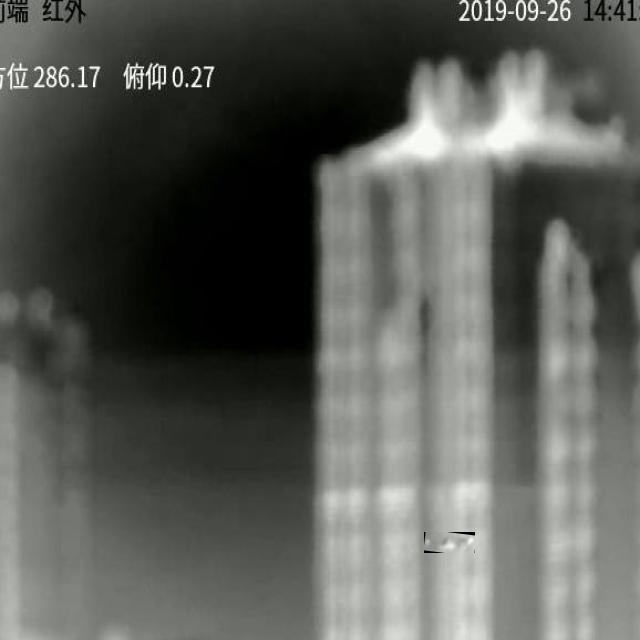drone: (424, 535, 475, 551)
